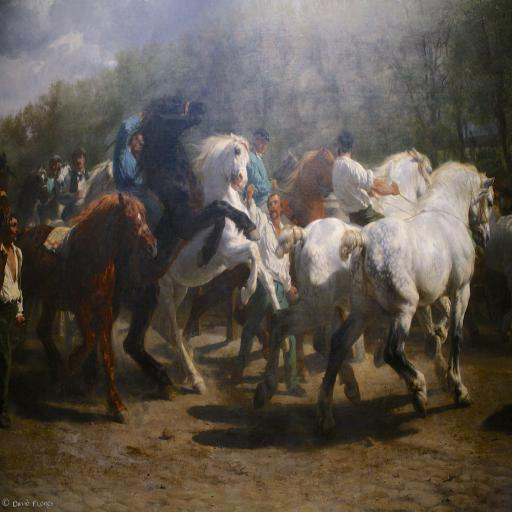Horse: (0, 129, 495, 439)
